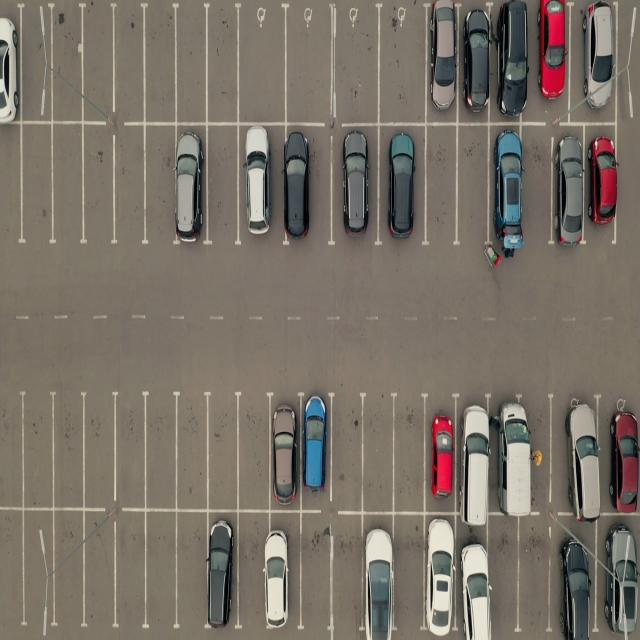space-empty: (237, 5, 288, 123), (375, 4, 425, 124), (286, 7, 337, 124), (331, 5, 380, 125), (45, 512, 87, 630), (45, 4, 85, 122), (15, 124, 53, 247), (142, 4, 180, 124), (204, 5, 242, 124), (518, 513, 556, 631), (175, 4, 212, 124), (457, 125, 493, 248), (78, 391, 116, 507), (205, 125, 242, 244), (78, 129, 115, 247), (111, 4, 148, 122), (112, 129, 149, 247), (331, 515, 367, 636), (79, 512, 116, 629), (17, 394, 54, 511), (176, 393, 213, 509), (50, 395, 87, 511), (143, 392, 180, 508), (142, 512, 178, 631), (50, 128, 86, 247), (115, 512, 151, 631), (328, 395, 366, 507), (392, 398, 429, 513), (237, 393, 274, 508), (78, 2, 114, 120), (18, 511, 54, 629), (115, 395, 152, 509), (141, 123, 176, 242), (358, 396, 394, 510), (423, 123, 457, 243), (234, 512, 268, 632), (15, 4, 50, 120), (296, 513, 330, 632), (394, 514, 427, 636), (205, 394, 240, 509), (177, 512, 210, 631), (487, 516, 519, 635), (524, 124, 554, 246), (0, 386, 24, 506), (0, 510, 24, 630), (0, 125, 23, 248)
space-occupied: (551, 394, 603, 515), (282, 128, 330, 247), (332, 129, 379, 246), (572, 2, 618, 121), (382, 122, 428, 240), (550, 520, 596, 638), (490, 395, 534, 518), (240, 126, 284, 246), (532, 0, 572, 119), (600, 400, 640, 518), (458, 393, 497, 514), (601, 518, 640, 636), (493, 2, 530, 122), (424, 5, 461, 124), (422, 393, 459, 512), (458, 518, 494, 638), (422, 515, 457, 637), (488, 126, 522, 250), (552, 126, 588, 242), (176, 128, 210, 247), (266, 512, 300, 631), (361, 514, 393, 638), (462, 6, 495, 124), (268, 394, 302, 508), (301, 394, 335, 505), (207, 512, 238, 631), (584, 126, 615, 236), (0, 5, 21, 123)
